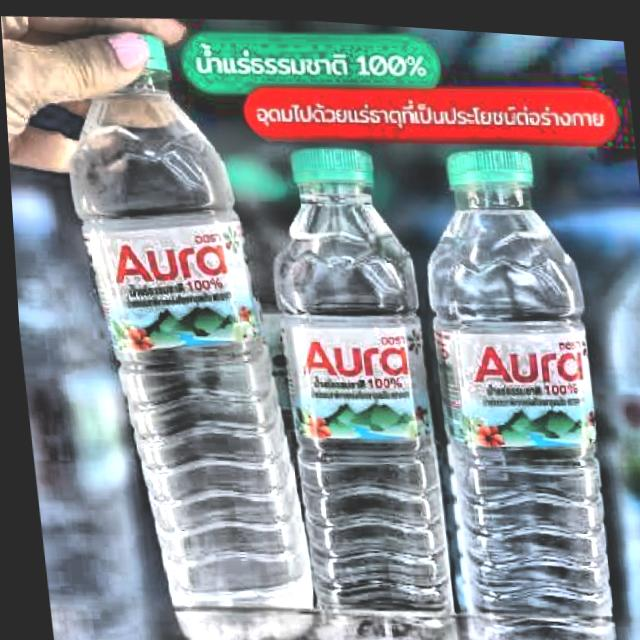Bottles: (38, 20, 320, 640), (402, 131, 616, 635), (250, 130, 456, 632)
